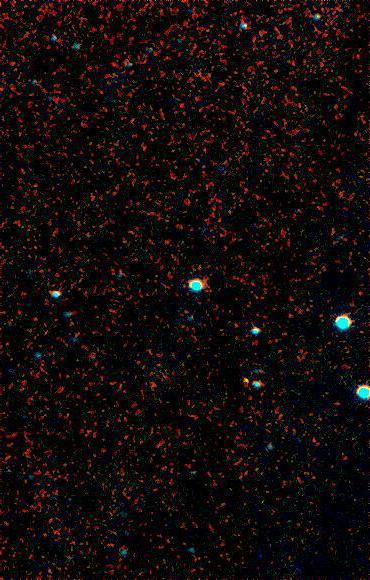star: (232, 374, 262, 404)
